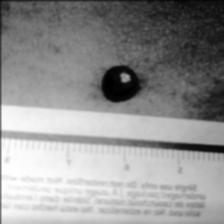Unclassified: (94, 57, 140, 98)
